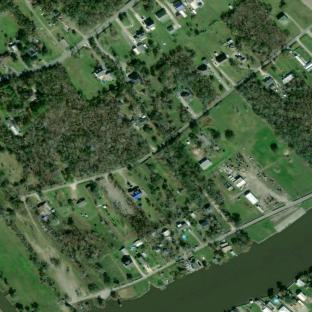Floresta: (0, 65, 149, 187), (238, 78, 312, 167), (159, 140, 223, 207), (221, 0, 287, 59), (151, 45, 216, 104), (38, 0, 124, 30), (0, 0, 32, 37), (128, 208, 155, 236), (298, 266, 312, 287), (0, 0, 0, 0)
